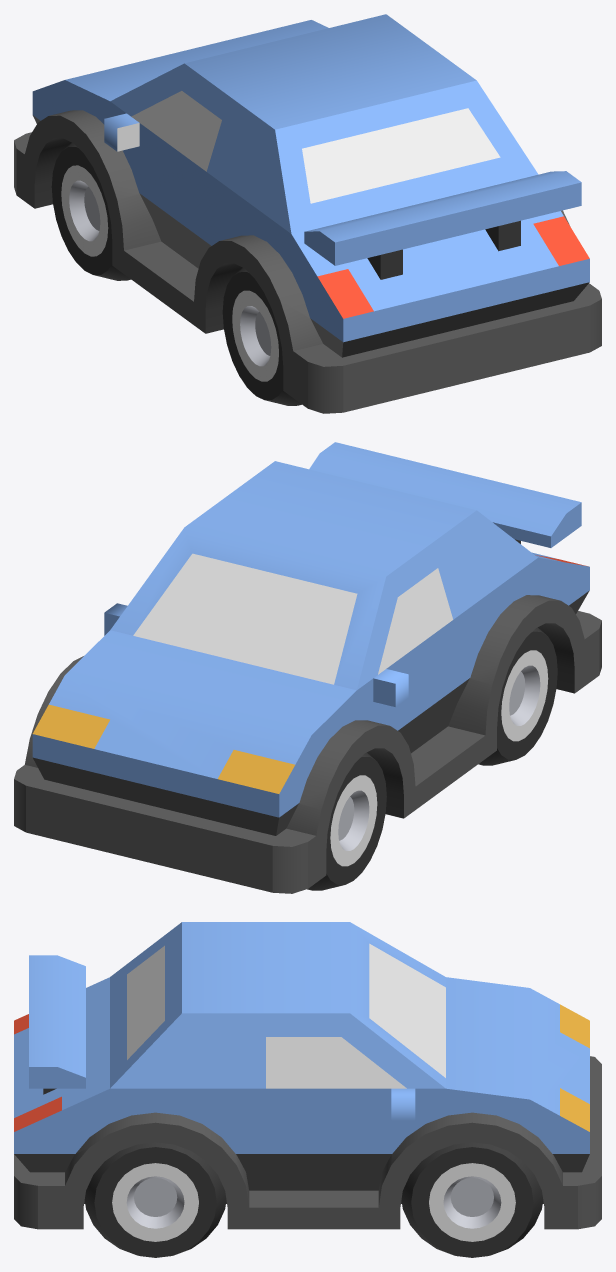
The model's file is sedanSportsLightBlue.glb.
The picture shows the model from 3 angles, top to bottom: view 1: azimuth 30°, elevation 25°; view 2: azimuth 150°, elevation 25°; view 3: azimuth 270°, elevation 25°; orthographic projection. The views are drawn at different scales.
Parts seen in each view (by area): view 1: body, spoiler, wheel_backLeft, wheel_frontLeft; view 2: body, spoiler, wheel_frontLeft, wheel_backLeft; view 3: body, wheel_backRight, wheel_frontRight, spoiler.
Boxes of the visible parts, x1,y1,x2,y2 form: body: (14, 14, 601, 413); spoiler: (304, 171, 581, 279); wheel_backLeft: (222, 267, 301, 405); wheel_frontLeft: (51, 142, 130, 280); body: (14, 461, 601, 893); spoiler: (309, 442, 581, 547); wheel_frontLeft: (307, 752, 386, 890); wheel_backLeft: (478, 627, 557, 765); body: (14, 922, 601, 1229); wheel_backRight: (84, 1142, 226, 1257); wheel_frontRight: (401, 1142, 543, 1257); spoiler: (29, 955, 85, 1094).
Bounding box in the file's own units: 1.3 × 1.1 × 2.45.
